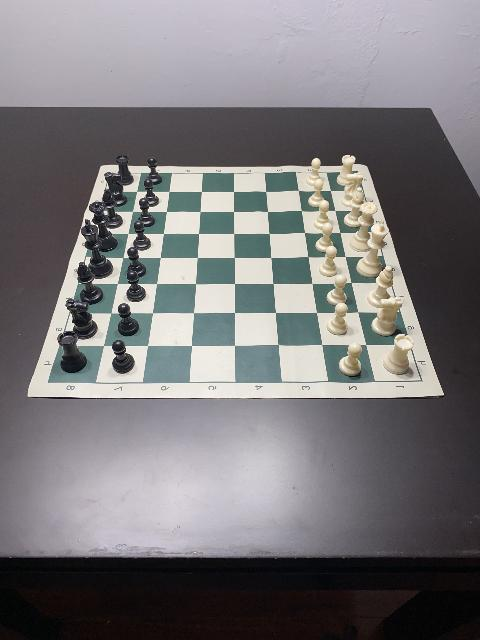black-bishop: (76, 262, 104, 304), (102, 189, 123, 229)
black-king: (81, 222, 113, 280)
black-knight: (66, 299, 98, 339), (105, 172, 127, 206)
black-pawn: (111, 340, 134, 374), (117, 303, 139, 335), (131, 220, 151, 250), (126, 248, 146, 278), (127, 272, 147, 302), (136, 198, 155, 228), (143, 178, 159, 206), (146, 158, 162, 184)
black-queen: (89, 201, 119, 251)
black-rook: (58, 332, 88, 373), (117, 154, 134, 186)
board: (27, 163, 444, 397)
white-bishop: (368, 267, 394, 309), (343, 190, 367, 228)
white-king: (356, 219, 390, 277)
white-knight: (370, 298, 402, 338), (342, 172, 364, 206)
white-pawn: (338, 342, 361, 378), (327, 304, 349, 336), (326, 274, 347, 306), (315, 222, 335, 252), (318, 247, 338, 276), (308, 178, 326, 208), (314, 200, 332, 230), (308, 158, 322, 184)
white-queen: (348, 202, 377, 252)
white-rook: (382, 334, 414, 374), (336, 155, 358, 187)
